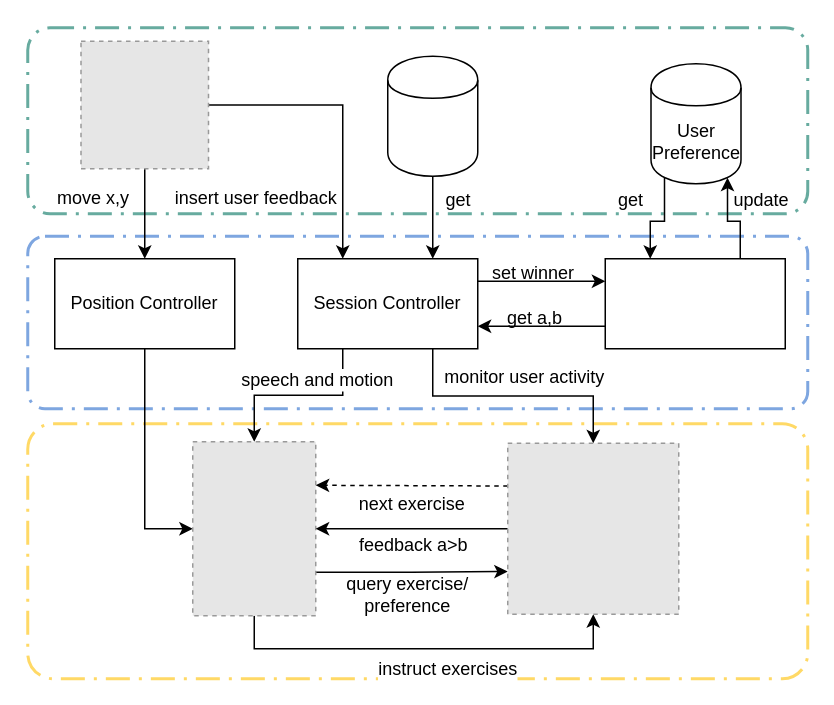
Some shapes in this 834 by 705 pixel diagram are drawn without their labels. Grey dashed boxes stand in for pictures. The centre of each missing label's shape, as x and y in pixels:
Exercises: (x=432, y=115)
Preference Learning Algorithm: (x=694, y=303)
